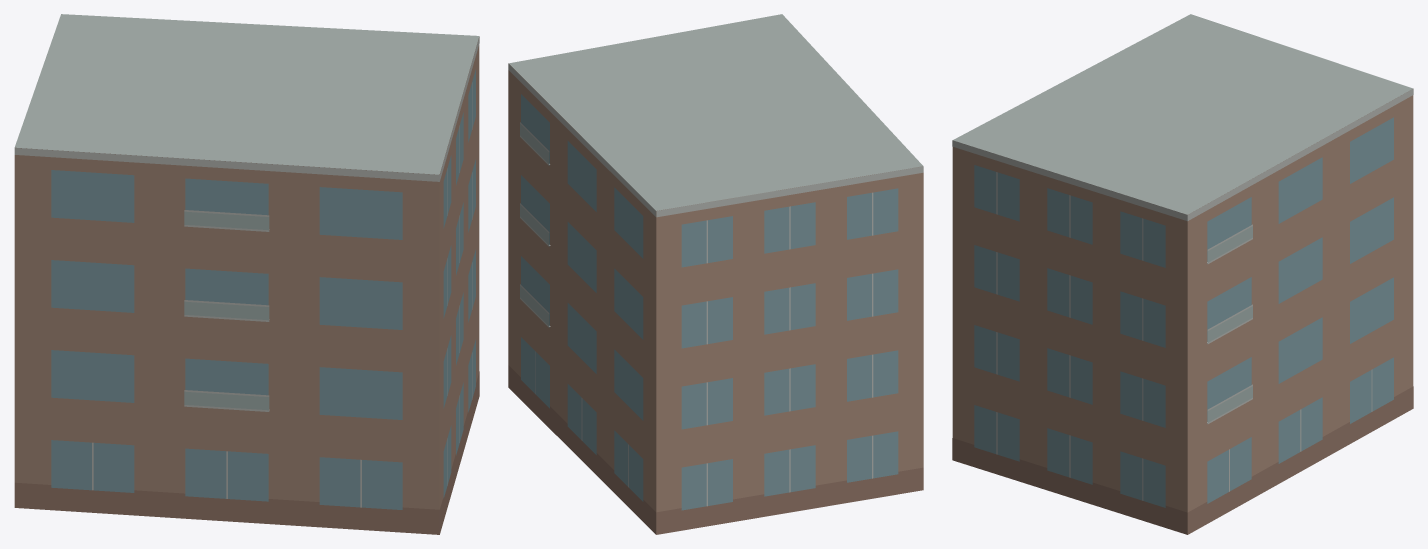
File: survey-upis-32697589.glb
3 views of the same model, side by side, from view 1: azimuth 30°, elevation 25°; view 2: azimuth 150°, elevation 25°; view 3: azimuth 270°, elevation 25° (orthographic). The views are drawn at different scales.
Parts seen in each view (by area): view 1: survey-upis-32697589.tmp; view 2: survey-upis-32697589.tmp; view 3: survey-upis-32697589.tmp.
Boxes of the visible parts, <box> form: survey-upis-32697589.tmp: <box>14,14,479,534</box>; survey-upis-32697589.tmp: <box>508,14,923,534</box>; survey-upis-32697589.tmp: <box>952,14,1413,534</box>.
Bounding box in the file's own units: 16.43 × 12.2 × 15.93.
